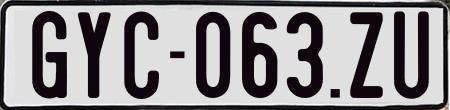0: (193, 9, 228, 96)
3: (287, 12, 325, 98)
6: (239, 10, 279, 99)
C: (124, 11, 164, 99)
G: (30, 11, 65, 103)
U: (394, 11, 430, 101)
Y: (78, 10, 111, 96)
Z: (350, 9, 384, 101)
